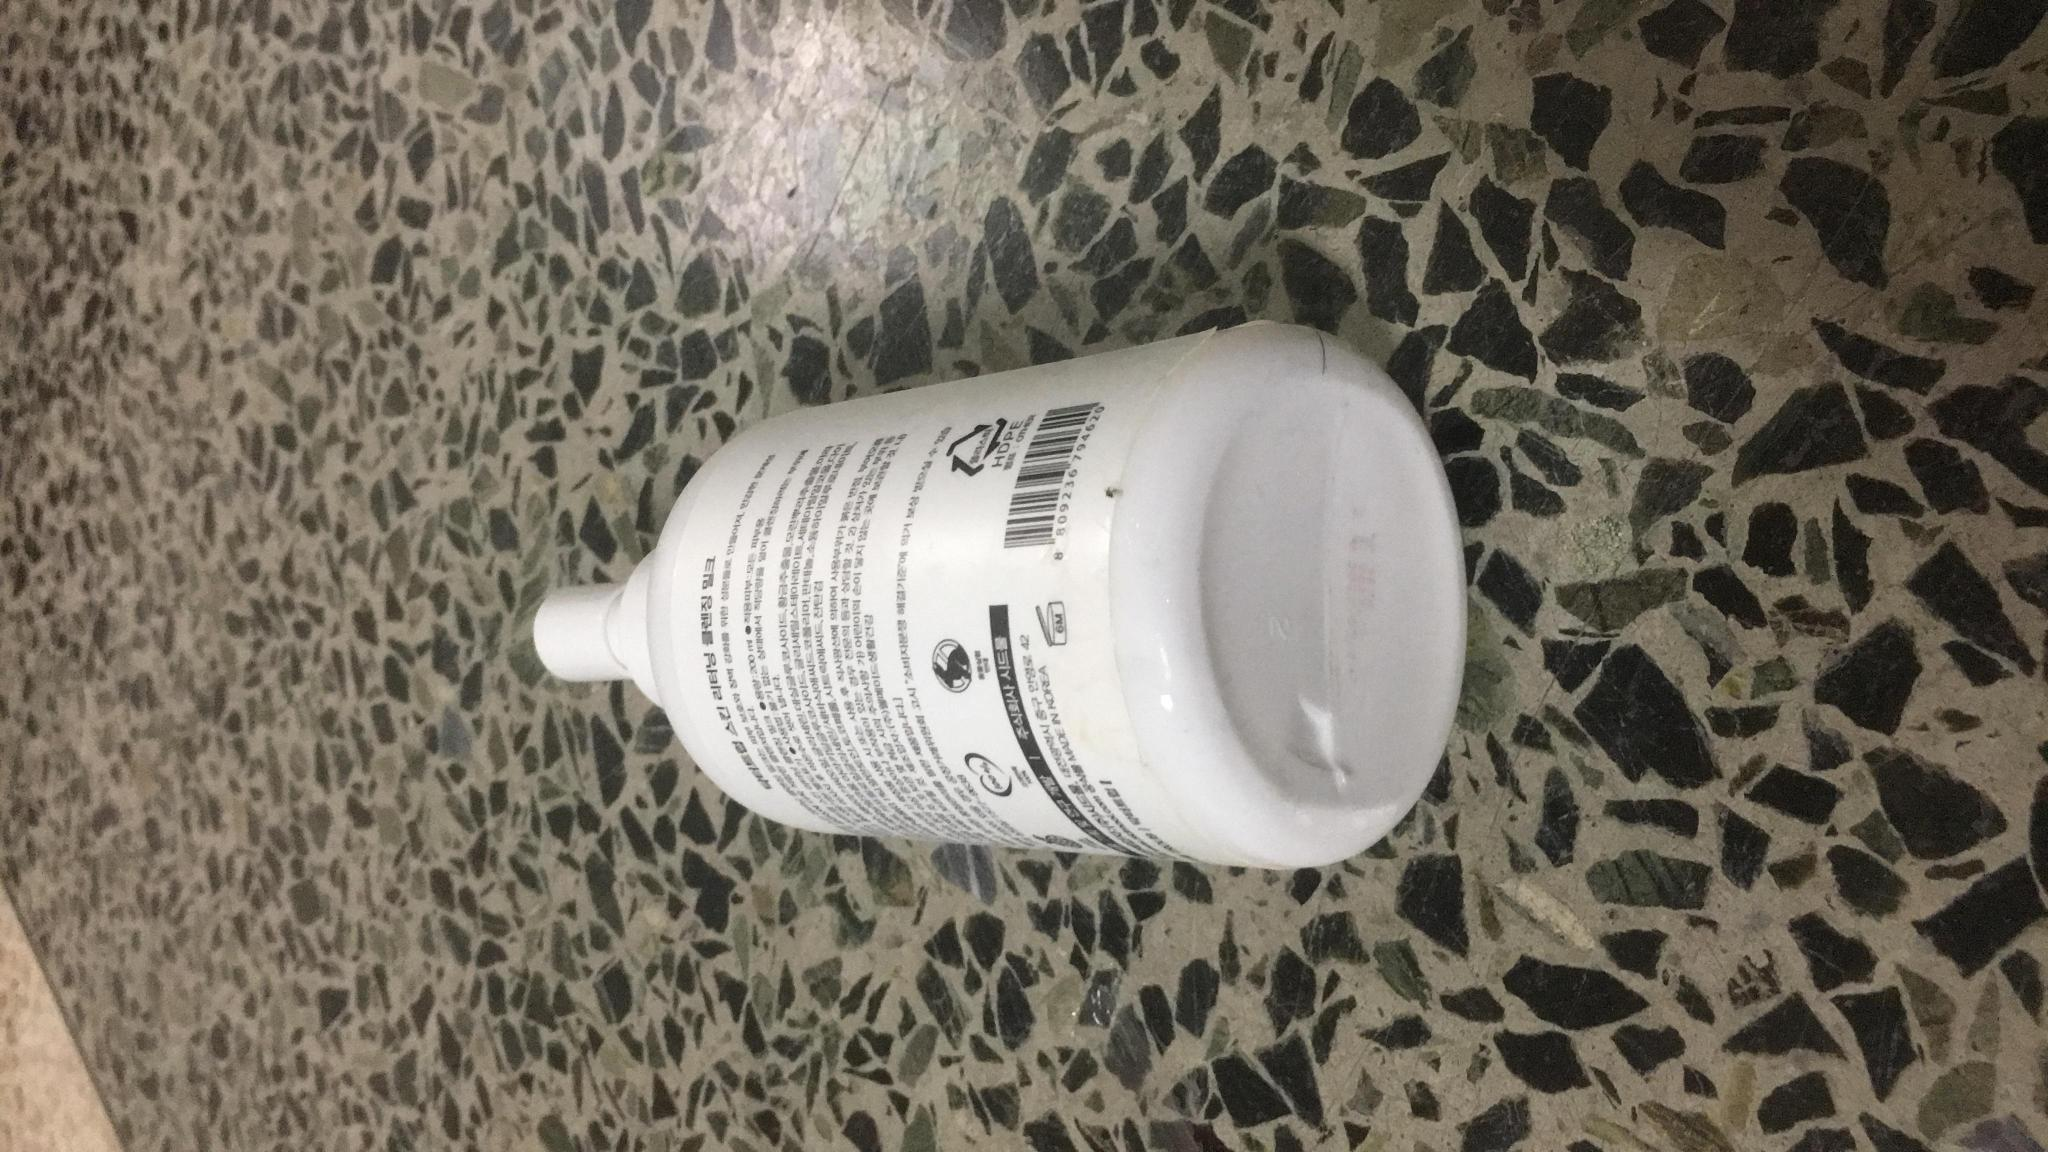bottle: (464, 312, 1582, 888)
